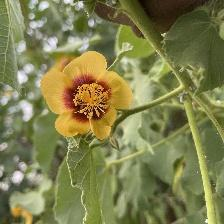indian mallow: (40, 52, 135, 142)
